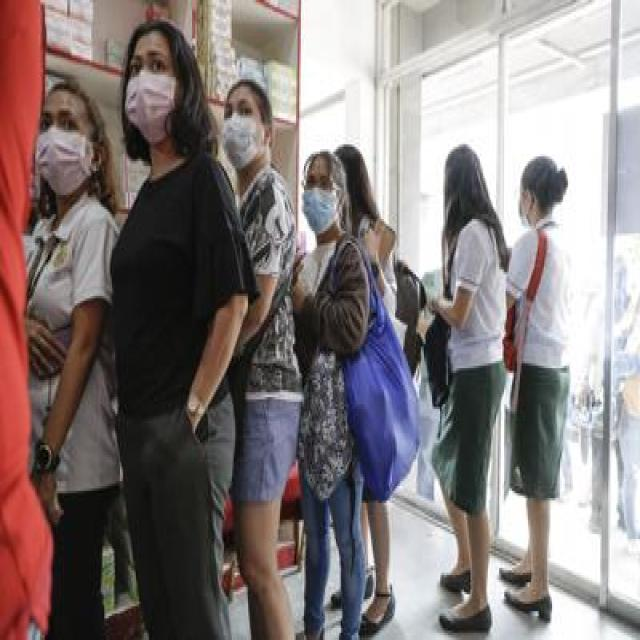with_mask: (123, 47, 179, 145), (36, 102, 94, 196), (222, 98, 260, 170), (302, 170, 339, 235), (517, 184, 536, 232)
